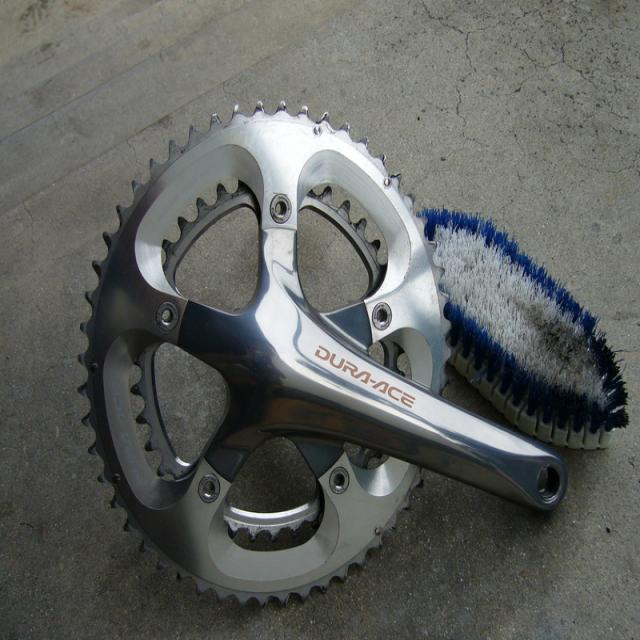tool: (81, 104, 566, 602), (420, 210, 627, 449)
